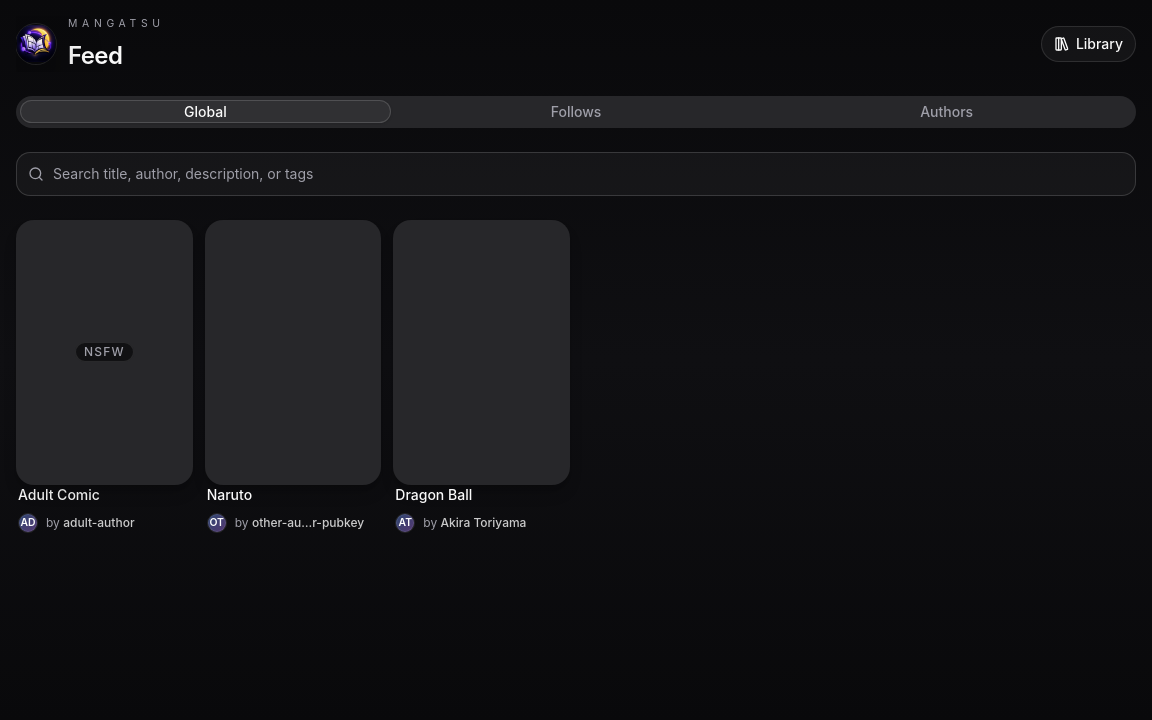
Scenario: FeedScreen › shows the author directory on the authors tab
Click the tab "Authors".
click(947, 112)  # box [761,100,1132,123]
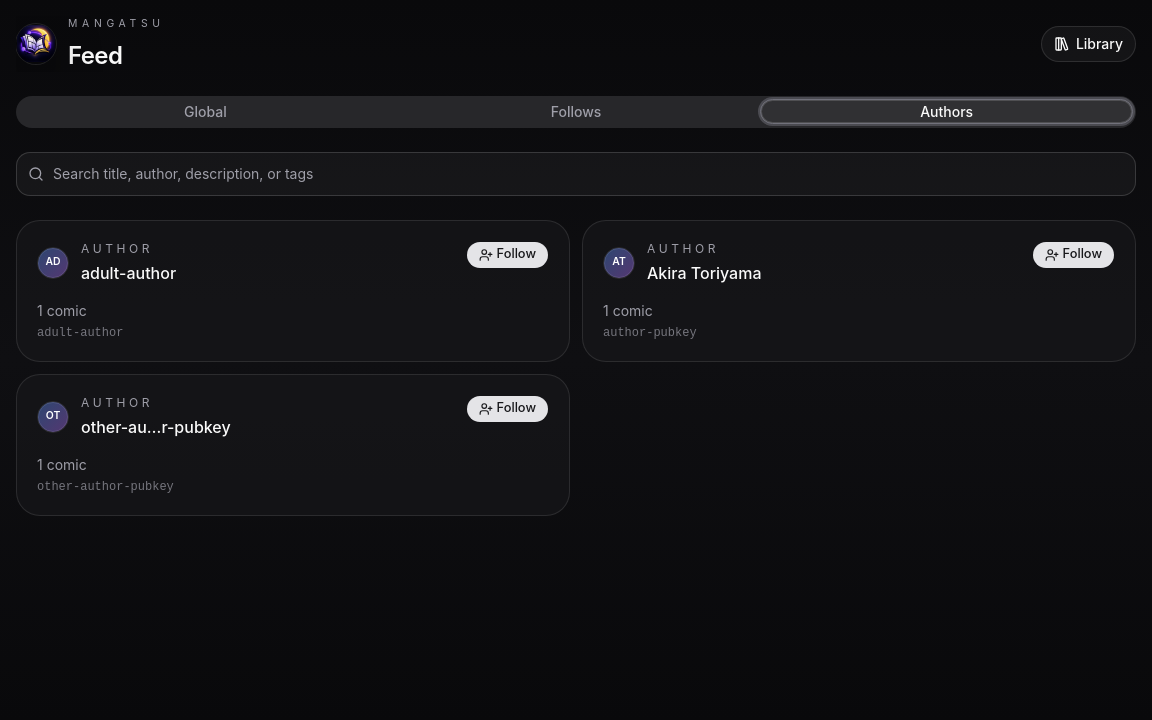
Now the button "AT Author Akira Toriyama" is shown, box [603,241,1016,285]
